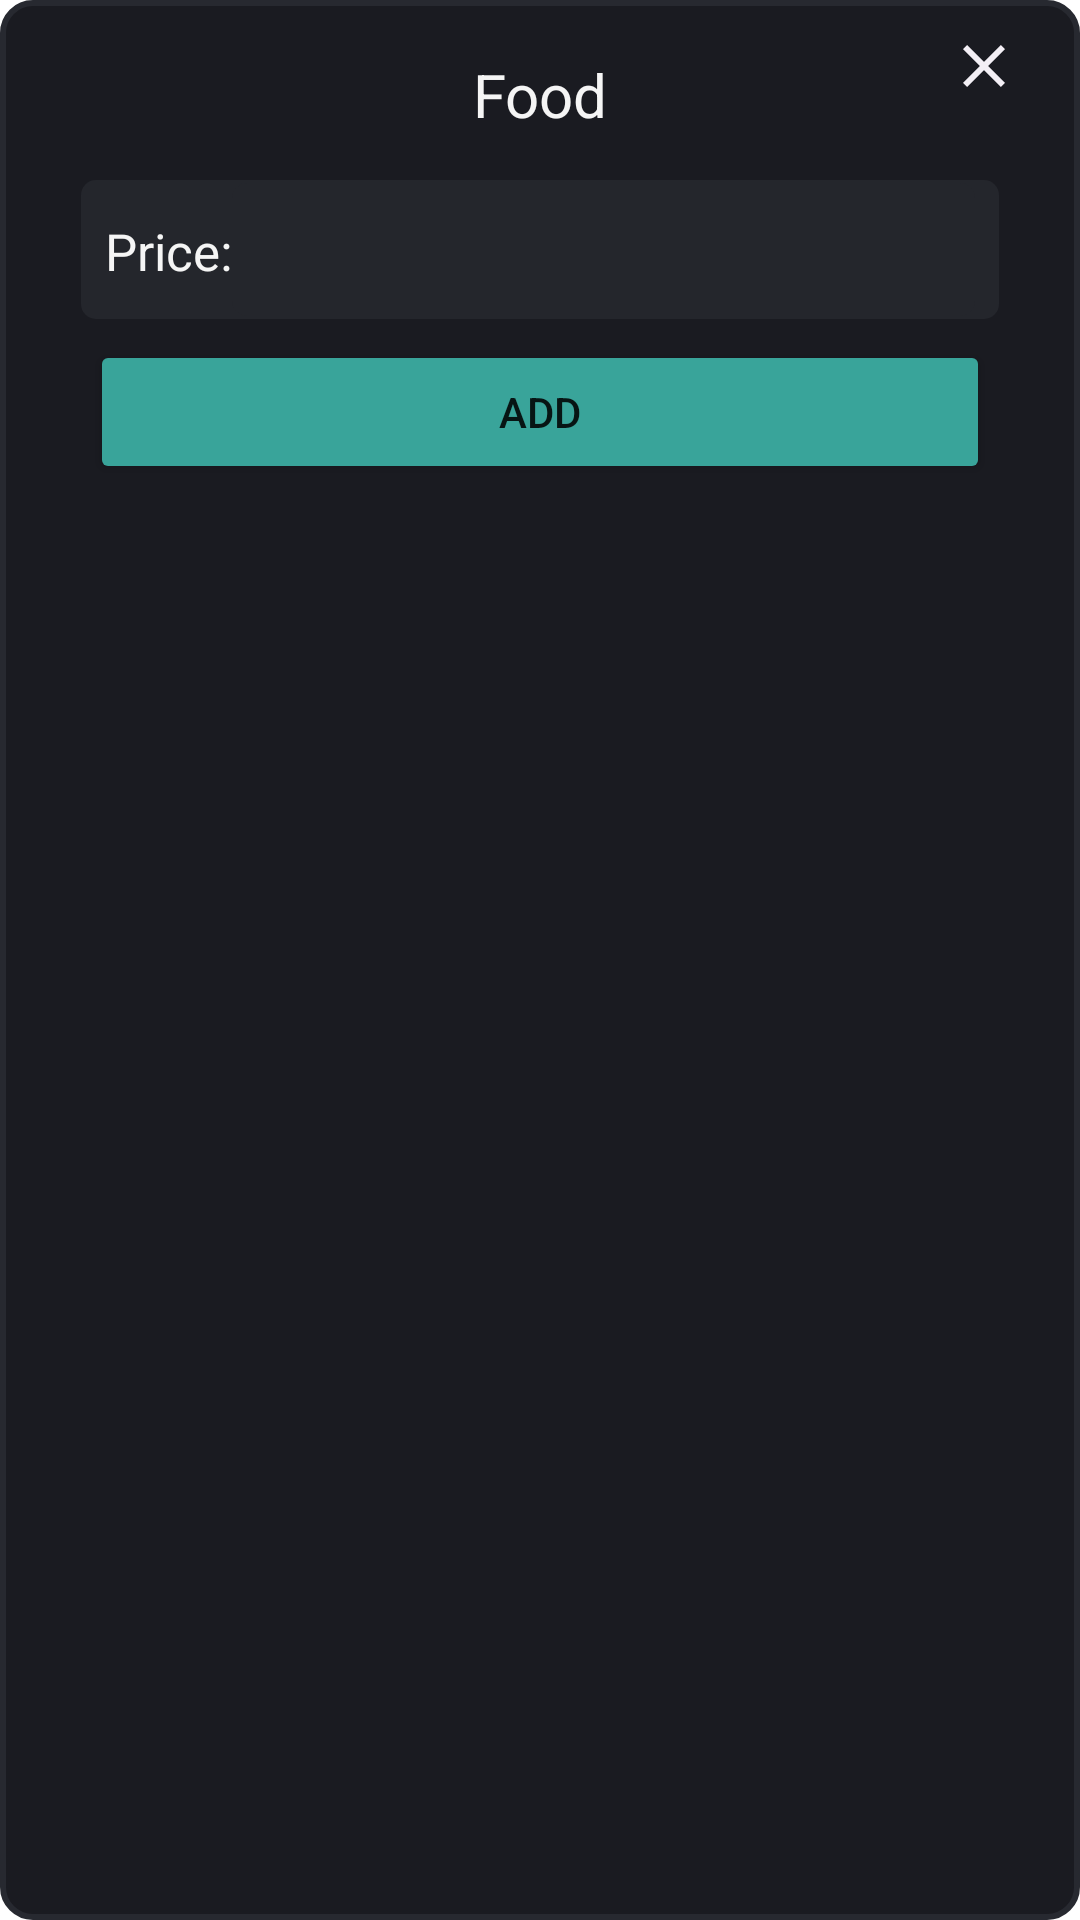

Icons on this 1080 × 1920 Android screen, each with the point to tap as (x=x, y=y):
close: (x=984, y=66)
